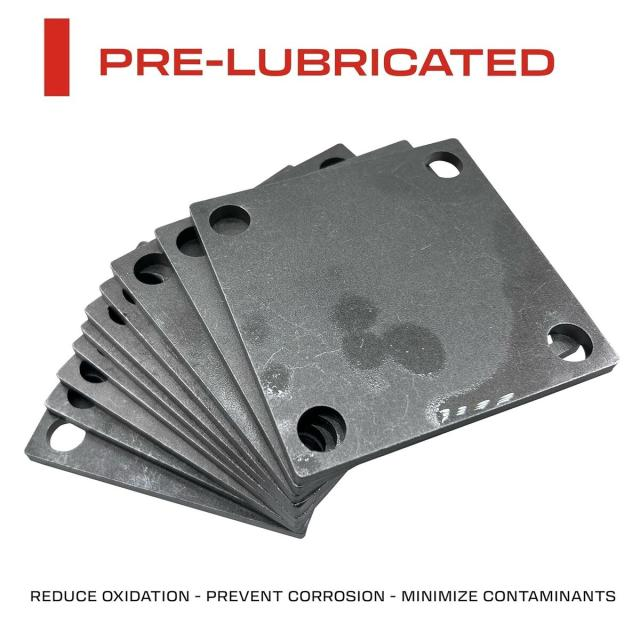holes: (296, 405, 347, 453), (206, 203, 250, 240), (47, 414, 88, 451), (544, 318, 579, 359), (424, 154, 461, 191), (67, 354, 106, 386), (130, 258, 176, 280), (106, 296, 129, 333), (168, 232, 204, 255)
